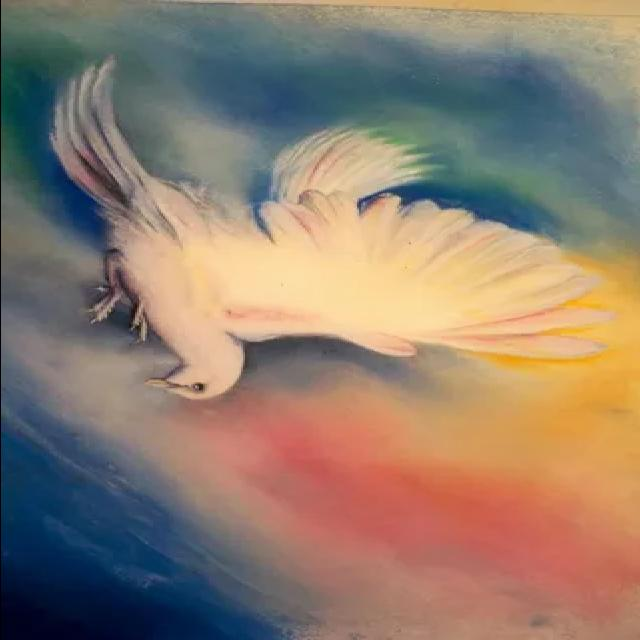pigeon: (40, 48, 614, 410)
